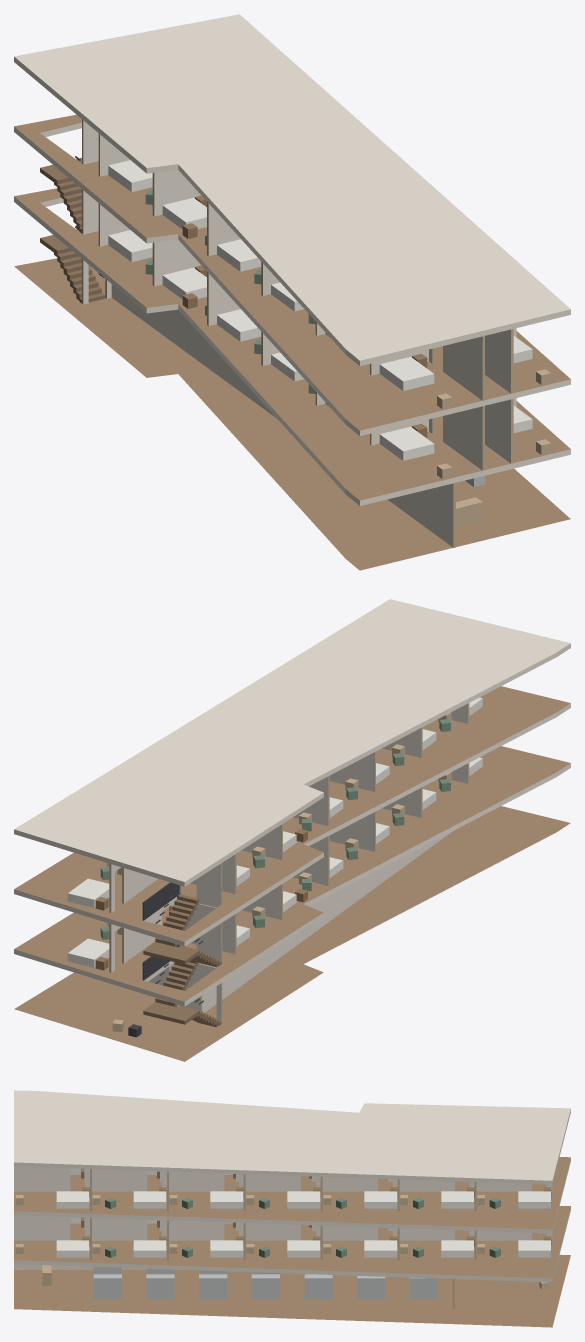
The model's file is interior.glb.
3 renders of one model, top to bottom at view 1: azimuth 30°, elevation 25°; view 2: azimuth 150°, elevation 25°; view 3: azimuth 270°, elevation 25°, orthographic. The views are drawn at different scales.
Visible parts, largest first — view 1: slabs, partitions, coarse-s2, coarse-s1, stair, coarse-s0; view 2: slabs, partitions, stair, coarse-s2, coarse-s1; view 3: slabs, partitions, coarse-s1, coarse-s2, coarse-s0.
Part boxes in pixels (x1=…): slabs: x1=14, y1=14, x2=570, y2=570; partitions: x1=82, y1=119, x2=516, y2=548; coarse-s2: x1=108, y1=160, x2=550, y2=409; coarse-s1: x1=108, y1=230, x2=550, y2=479; stair: x1=40, y1=156, x2=105, y2=303; coarse-s0: x1=456, y1=475, x2=485, y2=527; slabs: x1=14, y1=599, x2=570, y2=1061; partitions: x1=106, y1=703, x2=469, y2=1023; stair: x1=142, y1=882, x2=221, y2=1027; coarse-s2: x1=67, y1=697, x2=482, y2=910; coarse-s1: x1=67, y1=757, x2=482, y2=970; slabs: x1=14, y1=1090, x2=570, y2=1327; partitions: x1=14, y1=1166, x2=552, y2=1309; coarse-s1: x1=15, y1=1217, x2=551, y2=1257; coarse-s2: x1=15, y1=1168, x2=551, y2=1208; coarse-s0: x1=42, y1=1265, x2=549, y2=1299.
Bounding box in the file's own units: 12.99 × 9.85 × 33.82.
